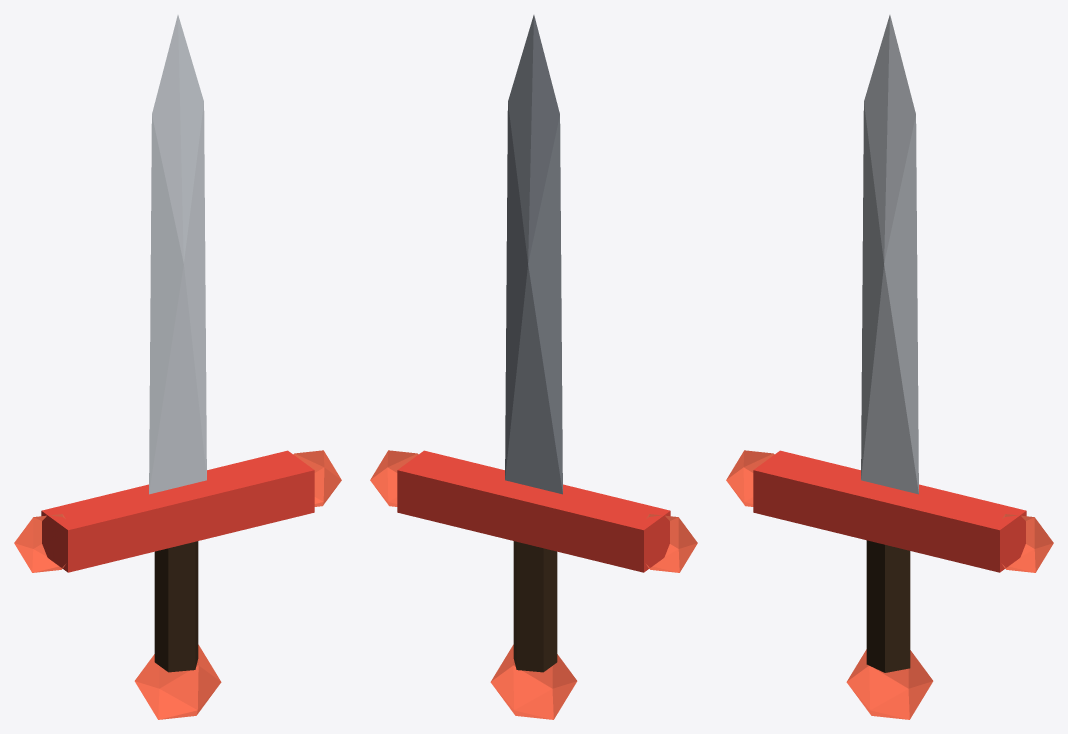
Rendered from dk_emb_0.glb.
The picture shows the model from 3 angles, left to right: view 1: azimuth 30°, elevation 25°; view 2: azimuth 150°, elevation 25°; view 3: azimuth 330°, elevation 25°; orthographic projection.
Visible parts, largest first — view 1: dk_emb_0; view 2: dk_emb_0; view 3: dk_emb_0.
Boxes of the visible parts, left/top/right/bottom form: dk_emb_0: left=14, top=15, right=341, bottom=719; dk_emb_0: left=370, top=15, right=697, bottom=719; dk_emb_0: left=726, top=15, right=1053, bottom=719.
Size of the model in its own units: 1.07 by 2.31 by 0.2212.
Materials: 2 (2 with a texture image).
